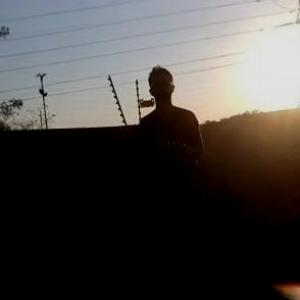follow: (139, 62, 214, 299)
